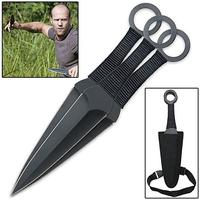knife: (8, 17, 177, 197), (38, 63, 85, 81)
